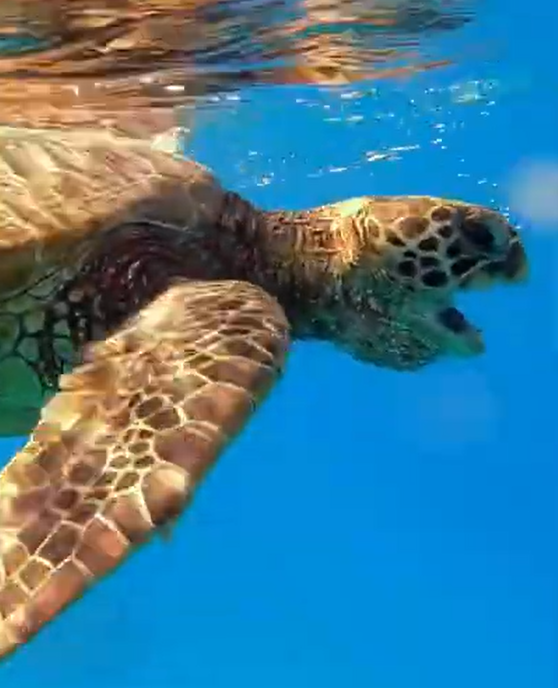seaturtle: (0, 277, 290, 660)
